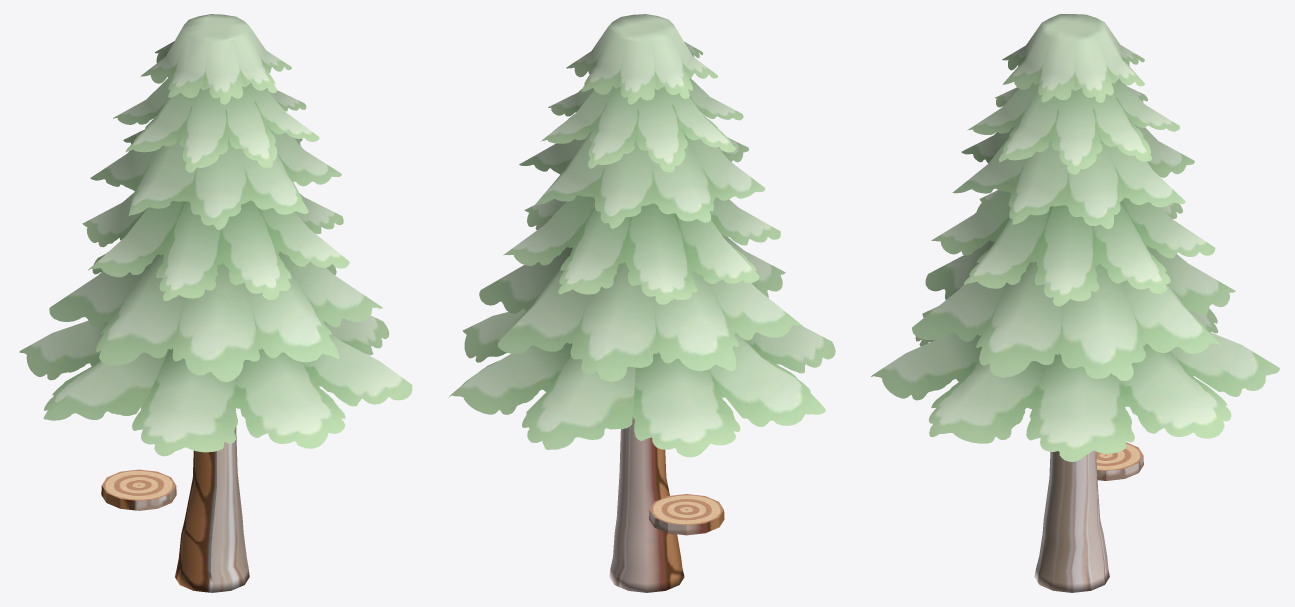
Rendered from TreePineLarge_a.fbx.
The picture shows the model from 3 angles, left to right: view 1: azimuth 30°, elevation 25°; view 2: azimuth 150°, elevation 25°; view 3: azimuth 270°, elevation 25°; orthographic projection.
Parts seen in each view (by area): view 1: TreePineTrunkLargeA, TreePineStumpLargeA; view 2: TreePineTrunkLargeA, TreePineStumpLargeA; view 3: TreePineTrunkLargeA, TreePineStumpLargeA.
Part boxes in pixels (x1,y1,x2,y2): TreePineTrunkLargeA: [19, 14, 412, 592]; TreePineStumpLargeA: [101, 469, 176, 510]; TreePineTrunkLargeA: [448, 14, 835, 592]; TreePineStumpLargeA: [649, 494, 724, 535]; TreePineTrunkLargeA: [871, 14, 1279, 592]; TreePineStumpLargeA: [1096, 442, 1143, 480].
Size of what is drawn, in the model's own units: 5.41 by 7.95 by 5.41.
